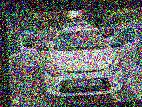car: (18, 18, 141, 99)
